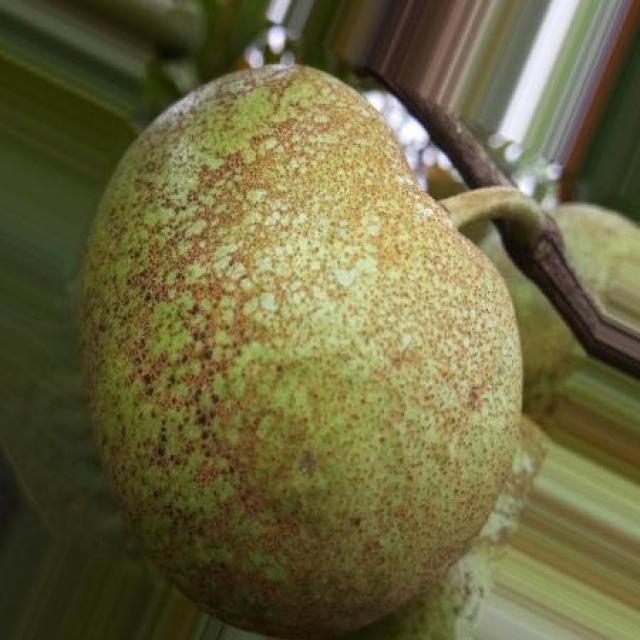Scab: (82, 66, 521, 636)
